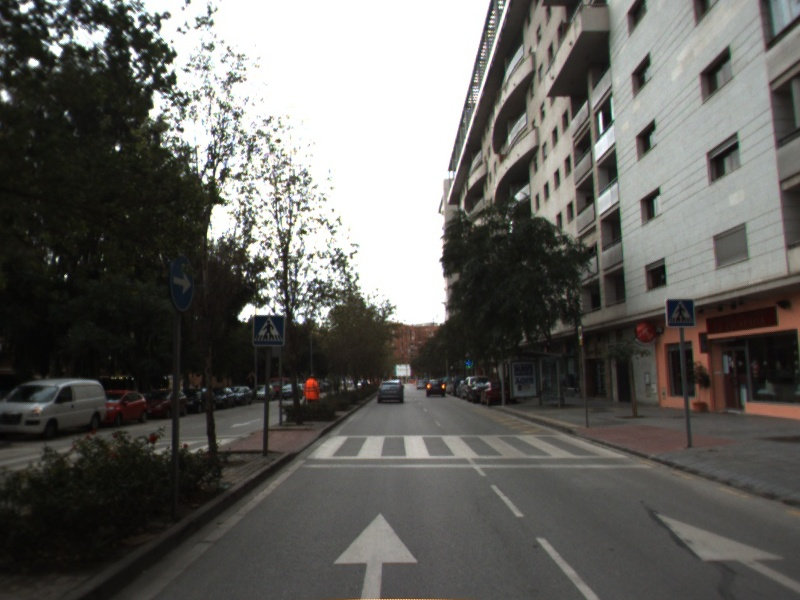STRAIGHT: (649, 508, 800, 594), (329, 510, 422, 600)
